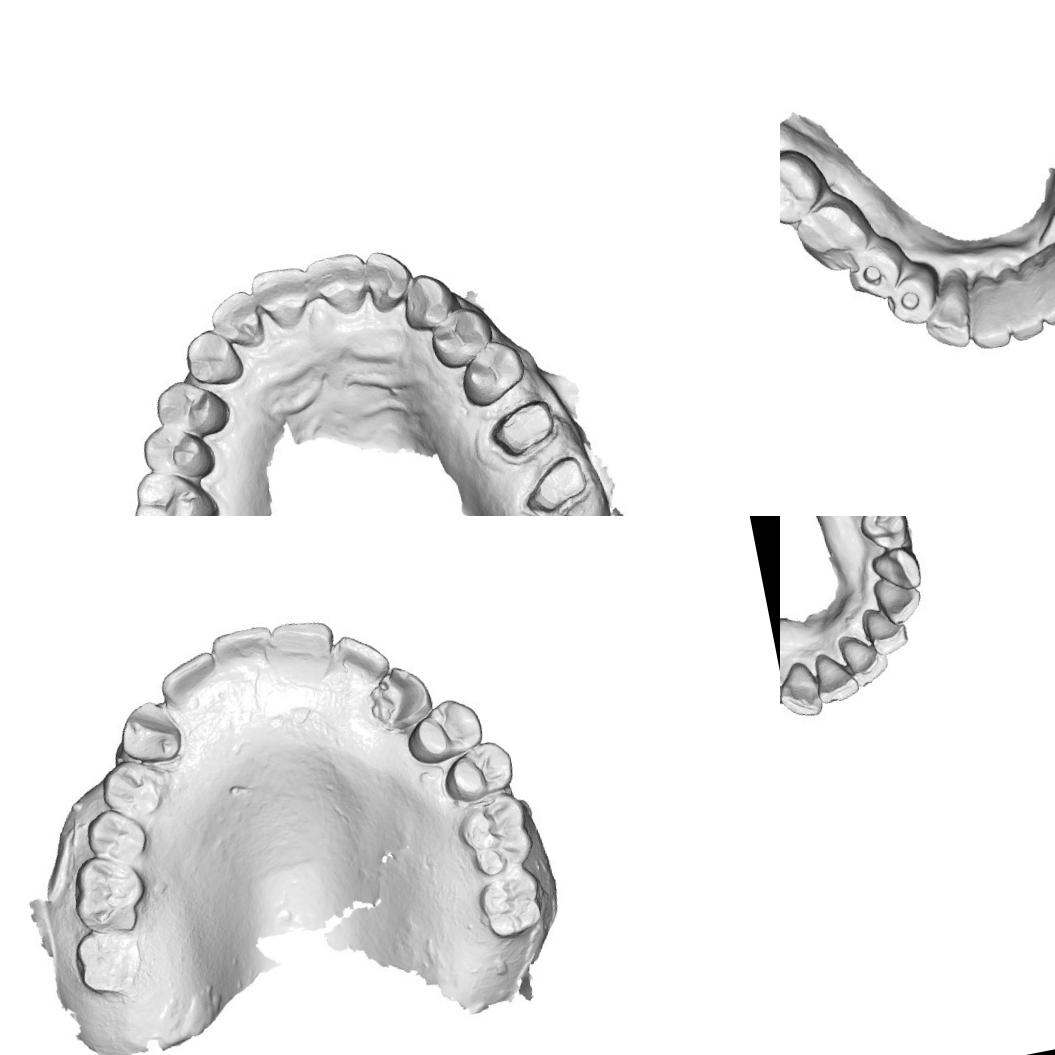canine: (113, 695, 195, 768), (366, 660, 438, 734), (916, 274, 978, 356), (183, 324, 242, 392), (396, 267, 451, 331), (780, 652, 828, 720), (871, 545, 924, 592)
crown: (523, 448, 593, 516), (489, 396, 560, 460)
incisor: (268, 615, 338, 680), (963, 273, 1018, 353), (248, 261, 314, 326), (205, 286, 268, 354), (996, 265, 1048, 344), (310, 250, 368, 314), (210, 622, 274, 674), (158, 652, 221, 703), (330, 632, 387, 687), (362, 245, 410, 304), (872, 574, 923, 626), (836, 632, 886, 684), (1023, 251, 1055, 323), (812, 650, 856, 702), (861, 606, 907, 655), (1041, 237, 1055, 308)
molar: (456, 791, 534, 875), (68, 854, 144, 932), (793, 200, 869, 276), (123, 459, 222, 516), (473, 868, 544, 944), (74, 925, 142, 992), (780, 151, 823, 225)
premolar: (132, 418, 227, 492), (452, 336, 532, 412), (152, 373, 232, 443), (438, 738, 518, 805), (426, 303, 498, 369), (97, 754, 164, 820), (411, 698, 479, 758), (86, 804, 144, 864), (846, 242, 905, 300), (883, 272, 939, 326), (858, 516, 911, 552)
